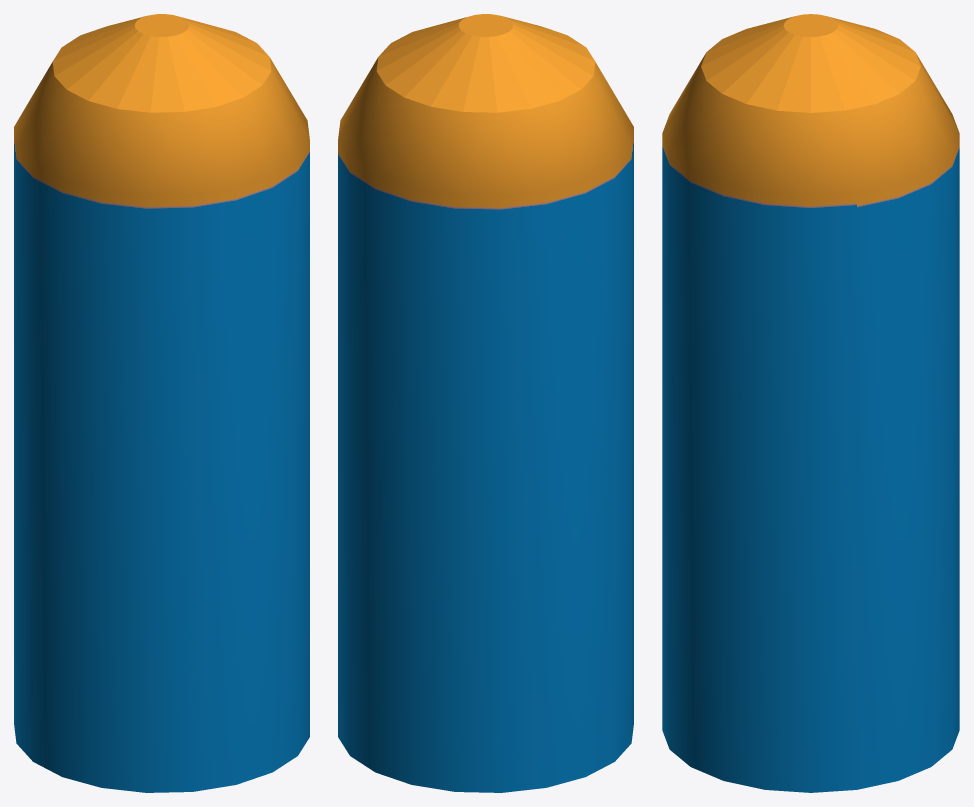
File: dartv1.fbx
3 views of the same model, side by side, from view 1: azimuth 30°, elevation 25°; view 2: azimuth 150°, elevation 25°; view 3: azimuth 270°, elevation 25° (orthographic).
Parts seen in each view (by area): view 1: pCylinder1; view 2: pCylinder1; view 3: pCylinder1.
Part boxes in pixels (bbox=[...]): pCylinder1: bbox=[14, 14, 309, 792]; pCylinder1: bbox=[338, 14, 633, 792]; pCylinder1: bbox=[662, 14, 959, 792].
Bounding box in the file's own units: 2 × 5.23 × 2.
